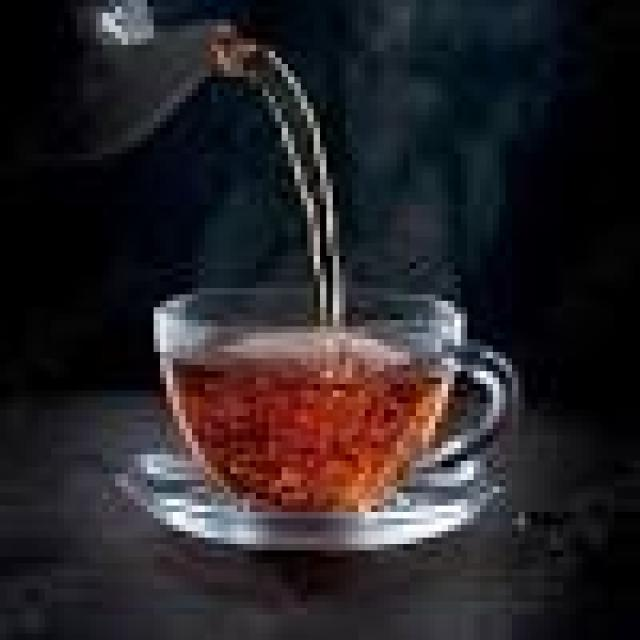taza: (136, 282, 534, 520)
